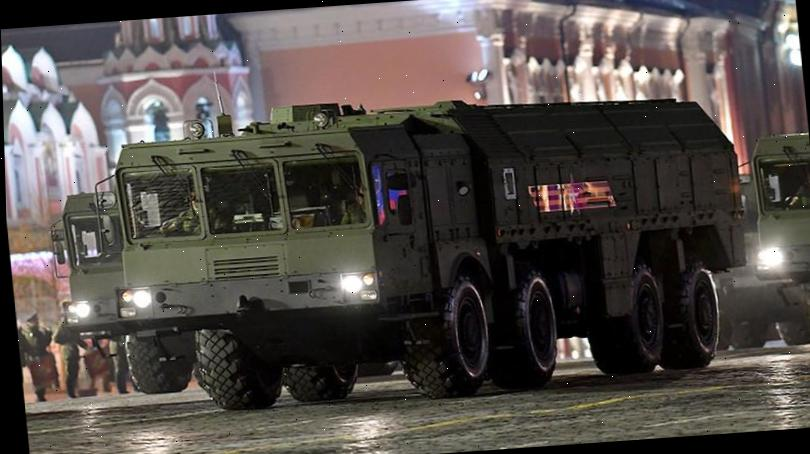person: (20, 310, 56, 400), (14, 309, 29, 406)
rszo: (91, 59, 765, 434)
